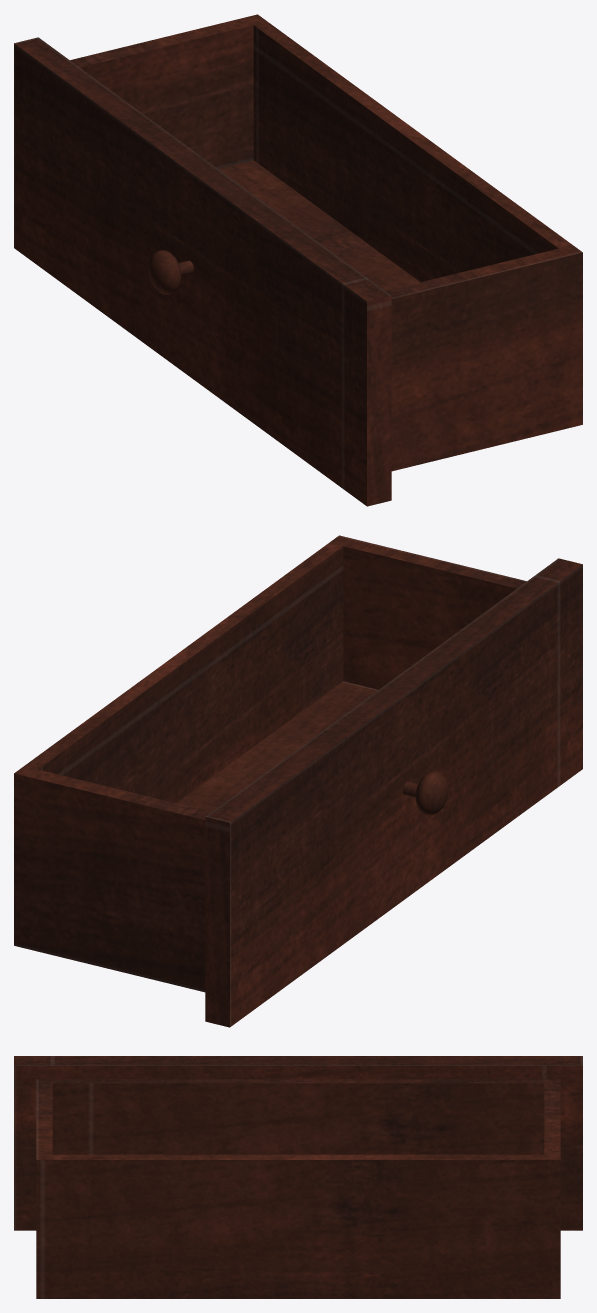
The model's file is drawer.fbx.
3 renders of one model, top to bottom at view 1: azimuth 30°, elevation 25°; view 2: azimuth 150°, elevation 25°; view 3: azimuth 270°, elevation 25°, orthographic. The views are drawn at different scales.
Visible parts, largest first — view 1: Cube.001; view 2: Cube.001; view 3: Cube.001.
Part boxes in pixels (<box>): Cube.001: <box>14,14,582,506</box>; Cube.001: <box>14,535,582,1027</box>; Cube.001: <box>14,1056,582,1298</box>.
Size of the model in its own units: 1.09 by 0.8 by 2.5.
1 material, 1 textured.
